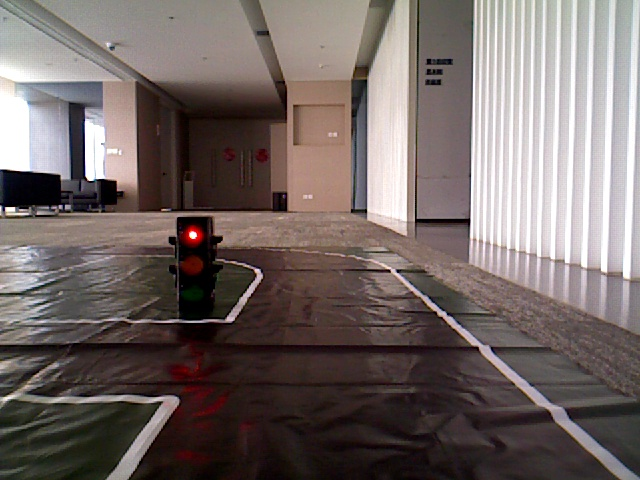red: (175, 220, 211, 308)
